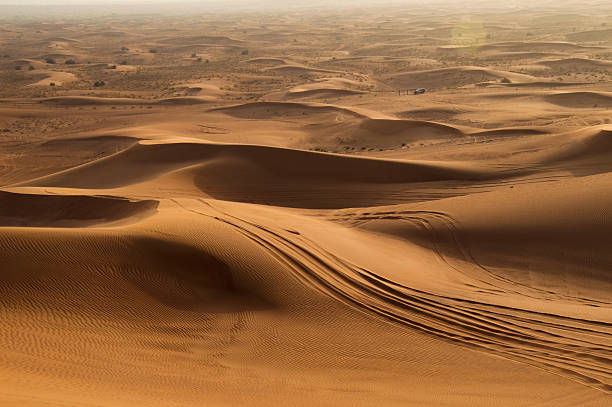vehicle_track: (175, 200, 611, 391)
